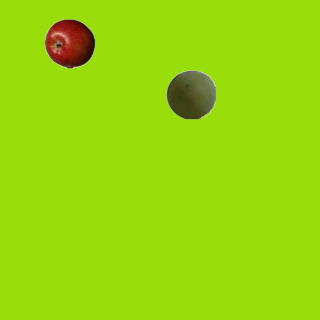Apple Braeburn: (44, 18, 94, 68)
Grape White 4: (165, 69, 215, 119)
